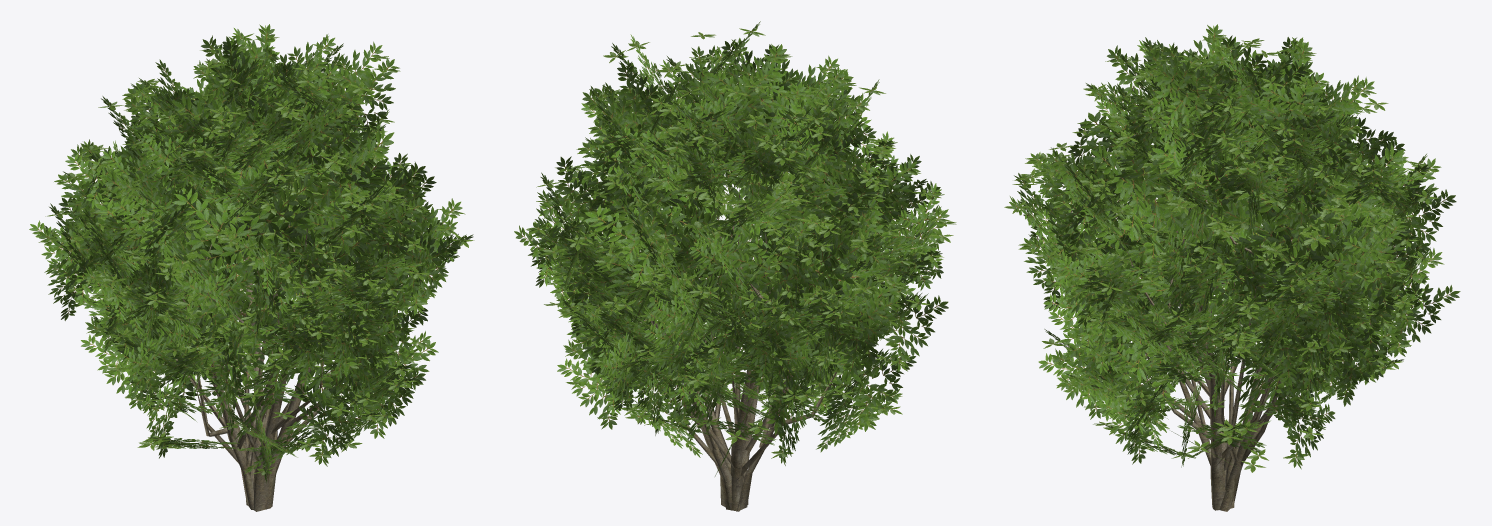
Rendered from Ligustrum_Ovalifolium_Spring_Young.glb.
3 views of the same model, side by side, from view 1: azimuth 30°, elevation 25°; view 2: azimuth 150°, elevation 25°; view 3: azimuth 270°, elevation 25° (orthographic).
Parts seen in each view (by area): view 1: Ligustrum_Ovalifolium_Spring_Young__LOD3; view 2: Ligustrum_Ovalifolium_Spring_Young__LOD3; view 3: Ligustrum_Ovalifolium_Spring_Young__LOD3.
Boxes of the visible parts, left/top/right/bottom form: Ligustrum_Ovalifolium_Spring_Young__LOD3: left=29, top=24, right=474, bottom=511; Ligustrum_Ovalifolium_Spring_Young__LOD3: left=514, top=21, right=956, bottom=511; Ligustrum_Ovalifolium_Spring_Young__LOD3: left=1004, top=24, right=1460, bottom=511.
Size of the model in its own units: 1.68 by 1.92 by 1.77.
3 materials, 3 textured.
